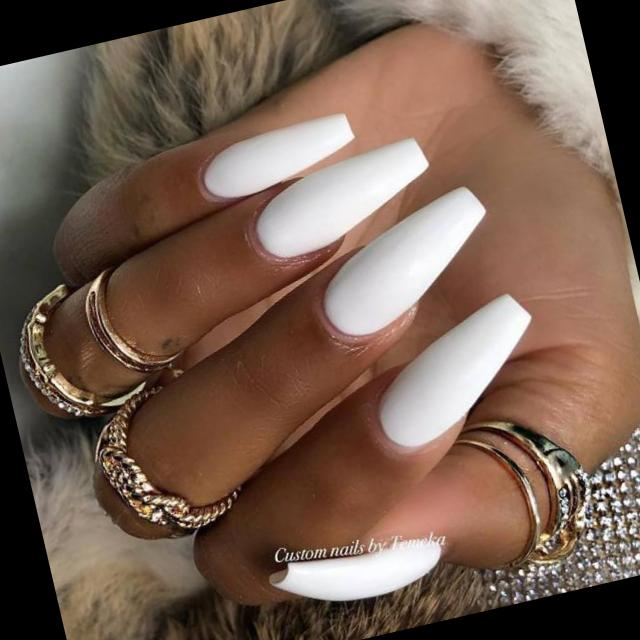Nail: (322, 187, 484, 336), (377, 294, 529, 448), (256, 138, 427, 258), (202, 113, 353, 199), (269, 539, 440, 599)
